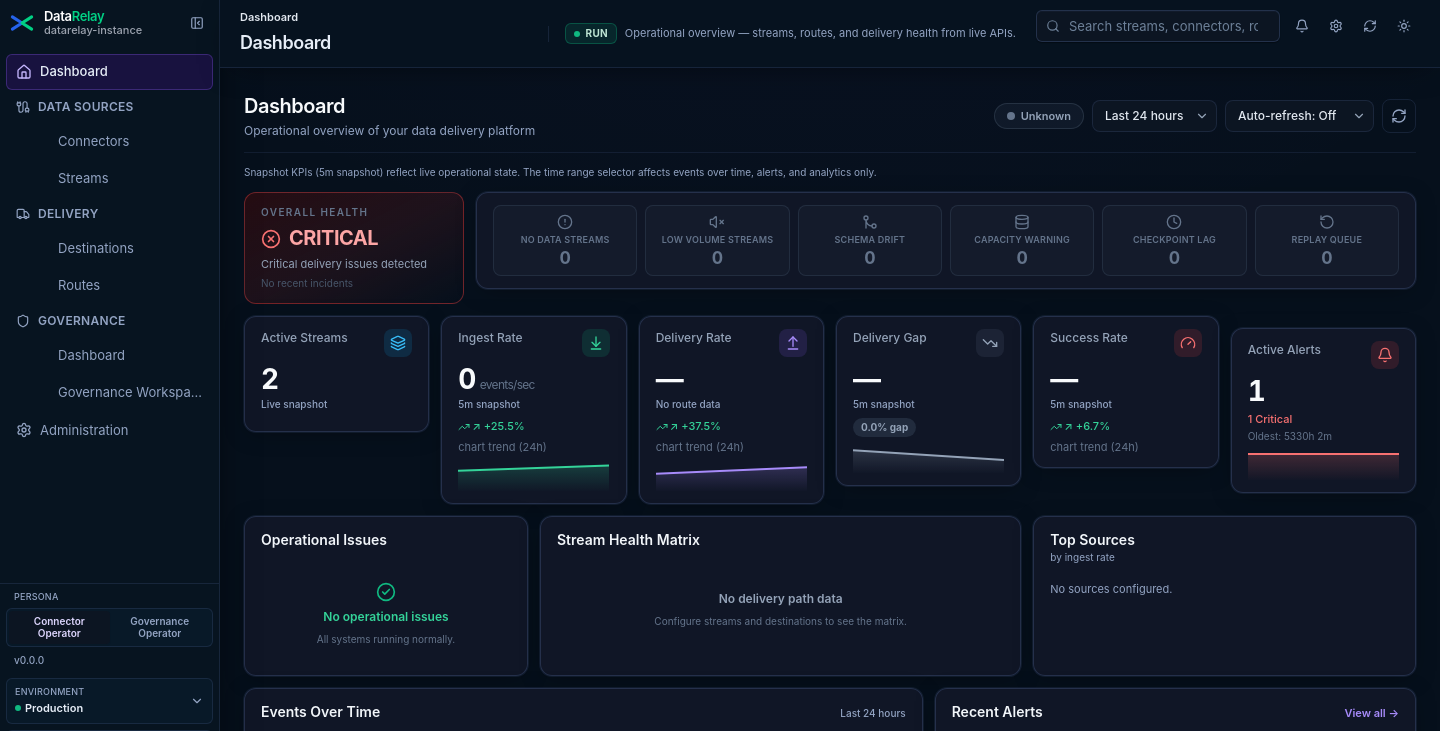
Scenario: App shell (phase: sidebar, header, dashboard) › renders Destinations via Delivery sidebar entry
Click the button "Destinations" at (110, 248), box [6,230,213,266]
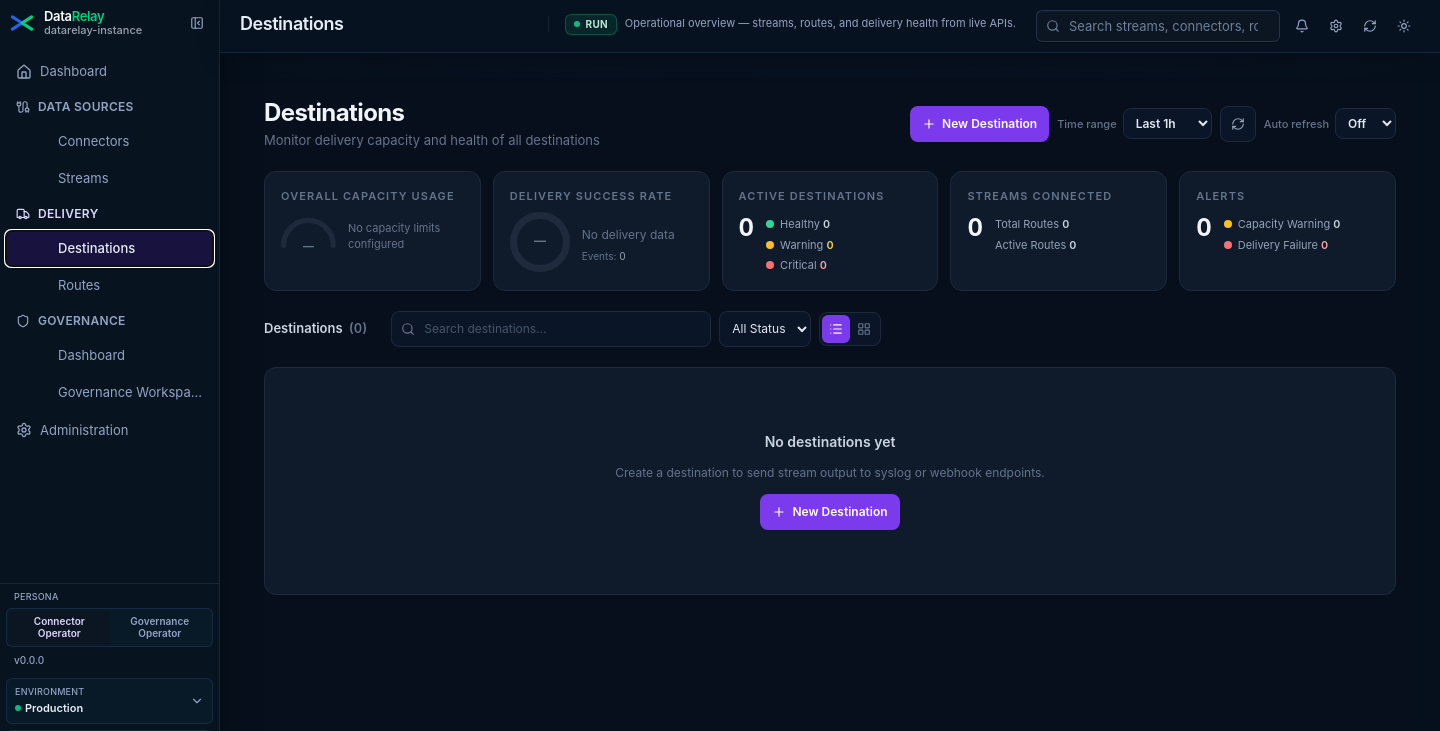
Expected: the text "Monitor delivery capacity and health of all destinations" is shown, [264,131,600,150]
